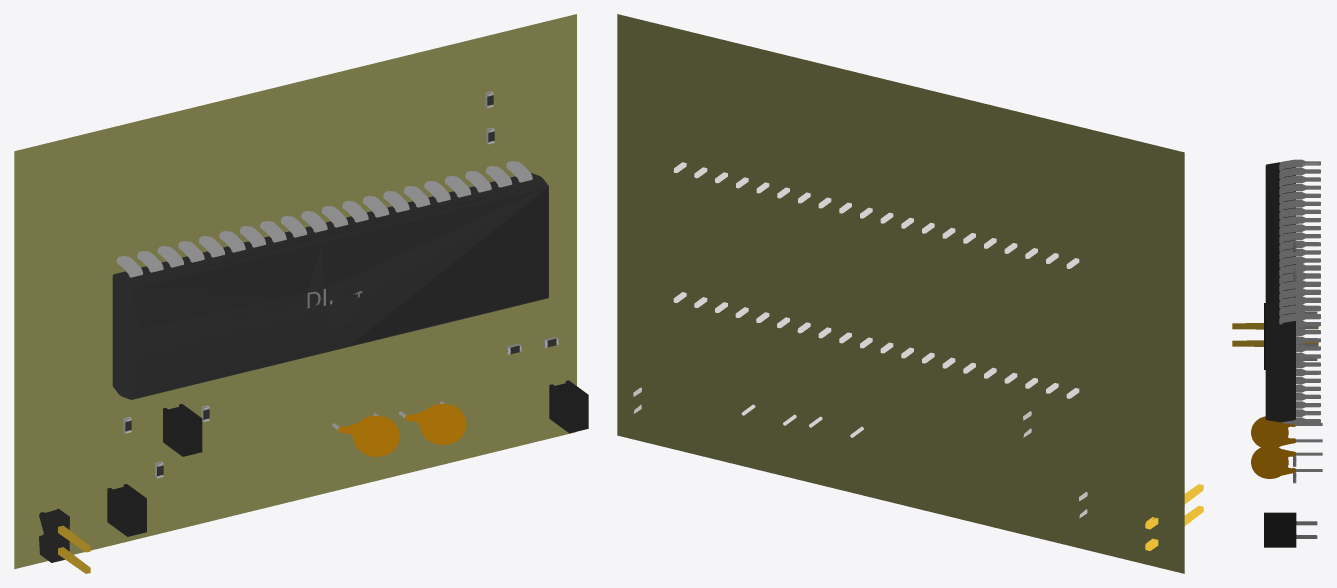
The model's file is OBJ_PCB_New Project_2.obj.
The picture shows the model from 3 angles, left to right: view 1: azimuth 30°, elevation 25°; view 2: azimuth 150°, elevation 25°; view 3: azimuth 270°, elevation 25°; orthographic projection. The views are drawn at different scales.
Bounding box in the file's own units: 274 × 195 × 47.14.
